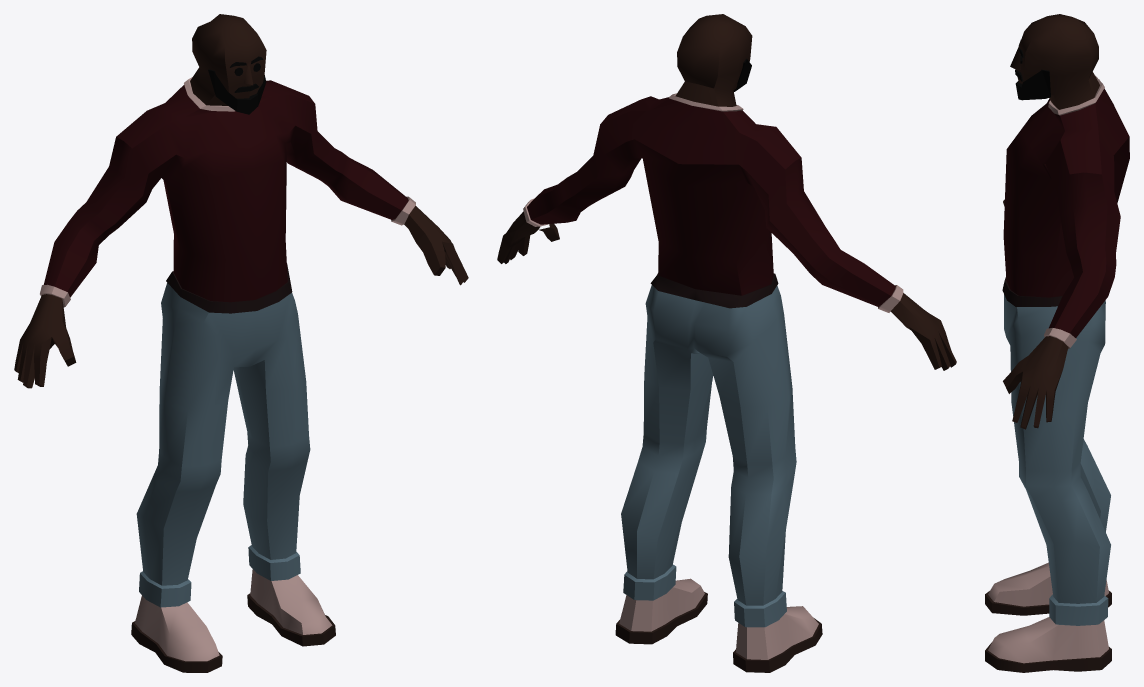
Rendered from LowPolyCharacter3.glb.
The picture shows the model from 3 angles, left to right: view 1: azimuth 30°, elevation 25°; view 2: azimuth 150°, elevation 25°; view 3: azimuth 270°, elevation 25°; orthographic projection.
Parts seen in each view (by area): view 1: lowPolyCharacterFace4; view 2: lowPolyCharacterFace4; view 3: lowPolyCharacterFace4.
Boxes of the visible parts, x1,y1,x2,y2 form: lowPolyCharacterFace4: [14, 14, 468, 672]; lowPolyCharacterFace4: [497, 14, 956, 672]; lowPolyCharacterFace4: [985, 14, 1129, 672].
Size of the model in its own units: 1.39 by 1.84 by 0.3922.
